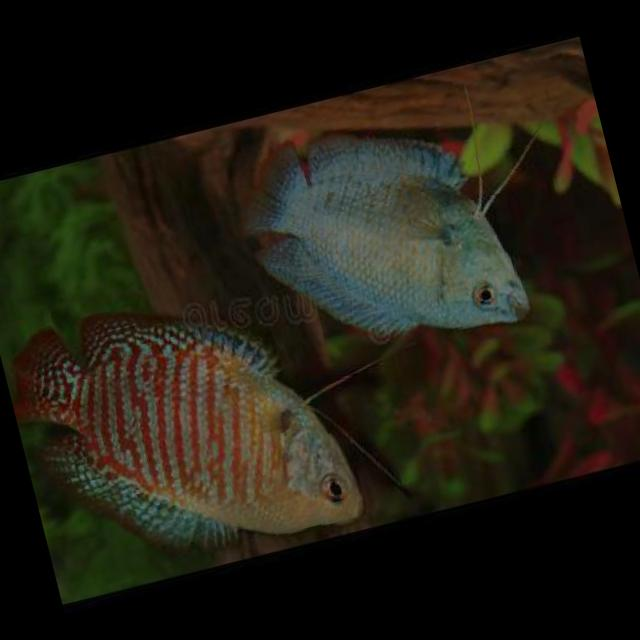Gourami: (0, 262, 372, 598), (223, 95, 539, 385)
